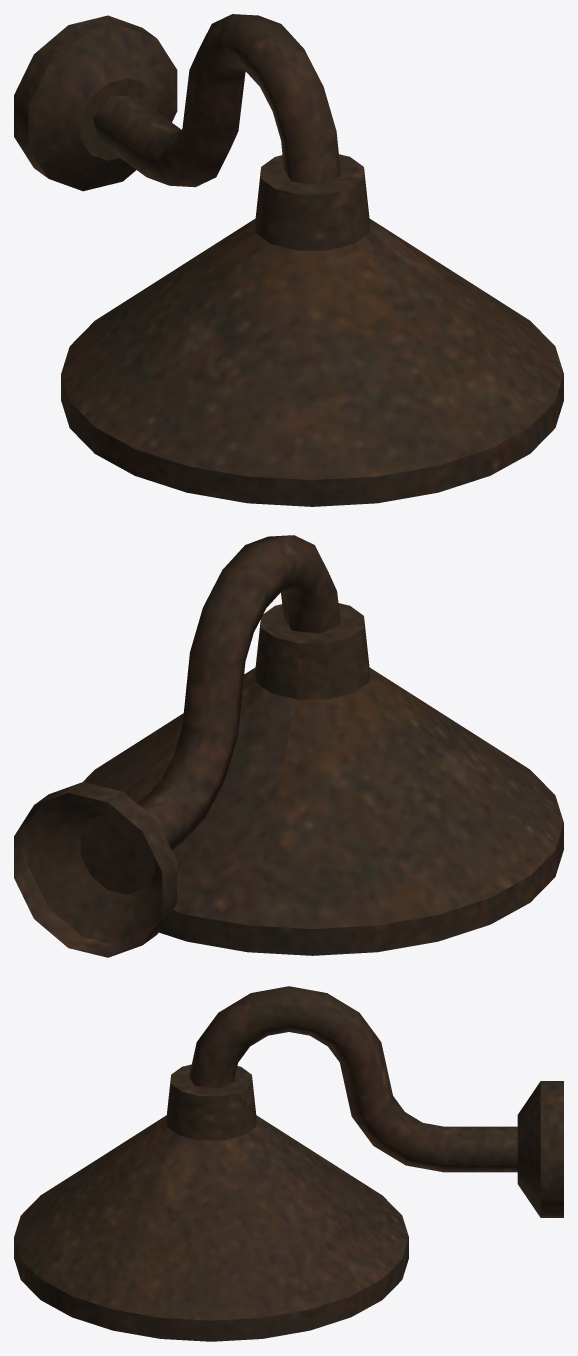
The model's file is lamp_mx_3_on.dae.
3 views of the same model, one above another, from view 1: azimuth 30°, elevation 25°; view 2: azimuth 150°, elevation 25°; view 3: azimuth 270°, elevation 25° (orthographic). The views are drawn at different scales.
Parts seen in each view (by area): view 1: lamp_mx_3_on; view 2: lamp_mx_3_on; view 3: lamp_mx_3_on.
Boxes of the visible parts, x1,y1,x2,y2 form: lamp_mx_3_on: (14, 14, 563, 506); lamp_mx_3_on: (14, 535, 563, 957); lamp_mx_3_on: (14, 986, 563, 1341).
Size of the model in its own units: 0.51 by 0.71 by 0.418.
2 materials, 2 textured.
